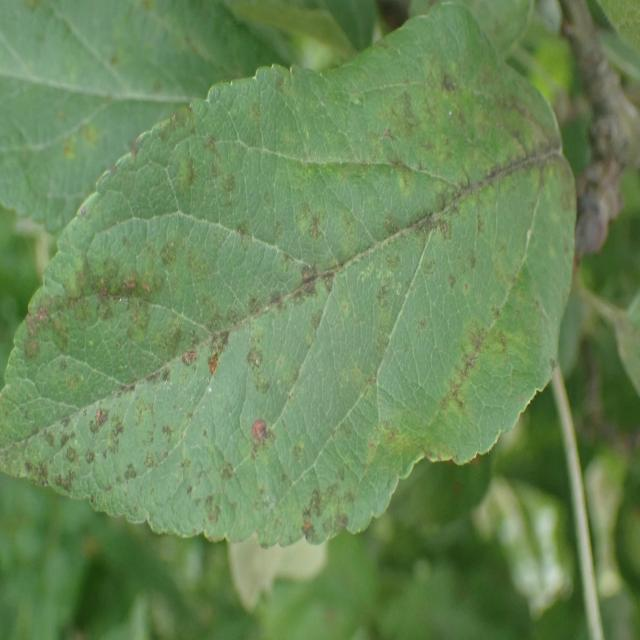scab: (1, 59, 554, 550), (0, 0, 283, 228)
